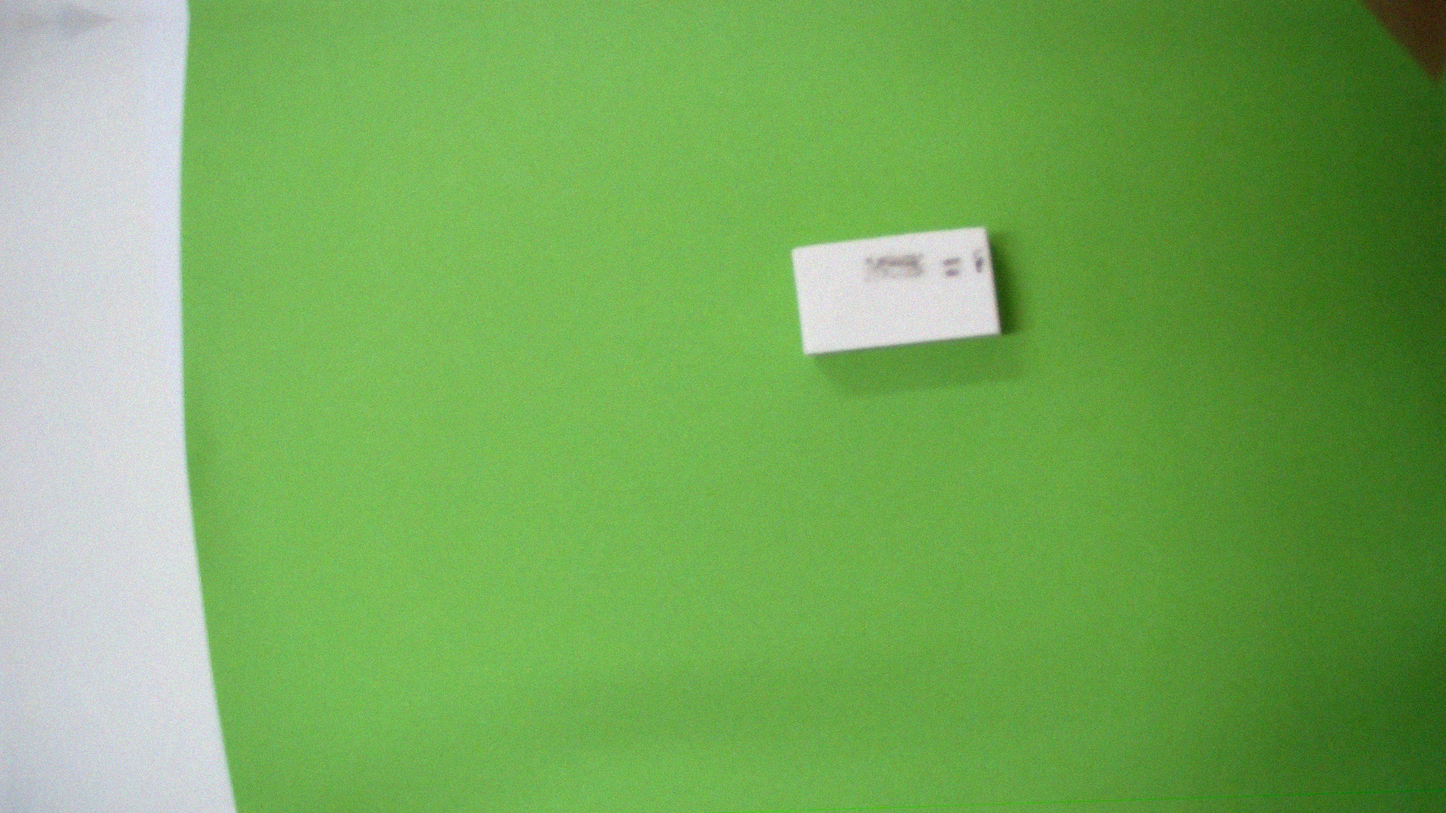gom: (790, 214, 1005, 365)
